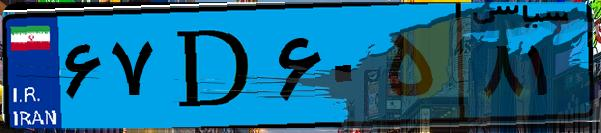0: (330, 28, 385, 110)
1: (525, 38, 570, 115)
5: (385, 28, 445, 110)
6: (270, 28, 330, 110), (57, 26, 110, 100)
7: (110, 28, 158, 98)
8: (475, 38, 525, 113)
D: (158, 12, 270, 120)
